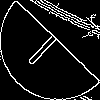I: (25, 25, 66, 68)
